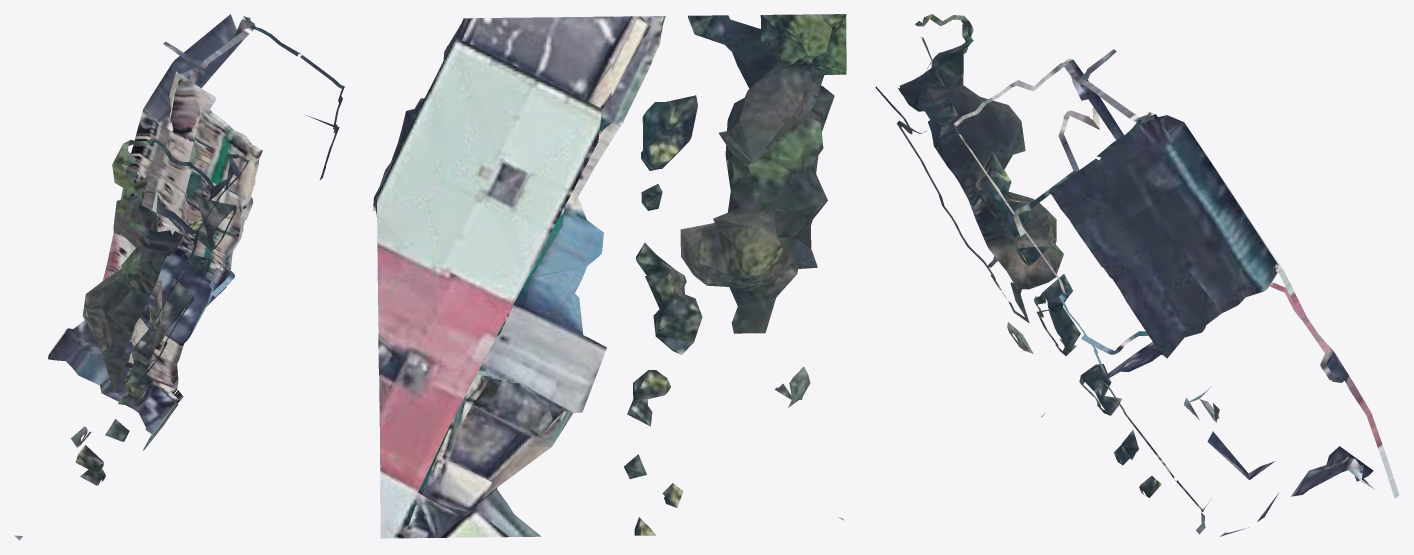
The picture shows the model from 3 angles, left to right: view 1: azimuth 30°, elevation 25°; view 2: azimuth 150°, elevation 25°; view 3: azimuth 270°, elevation 25°; orthographic projection. The views are drawn at different scales.
Size of the model in its own units: 34.61 by 40.18 by 40.2.
1 material, 1 textured.
